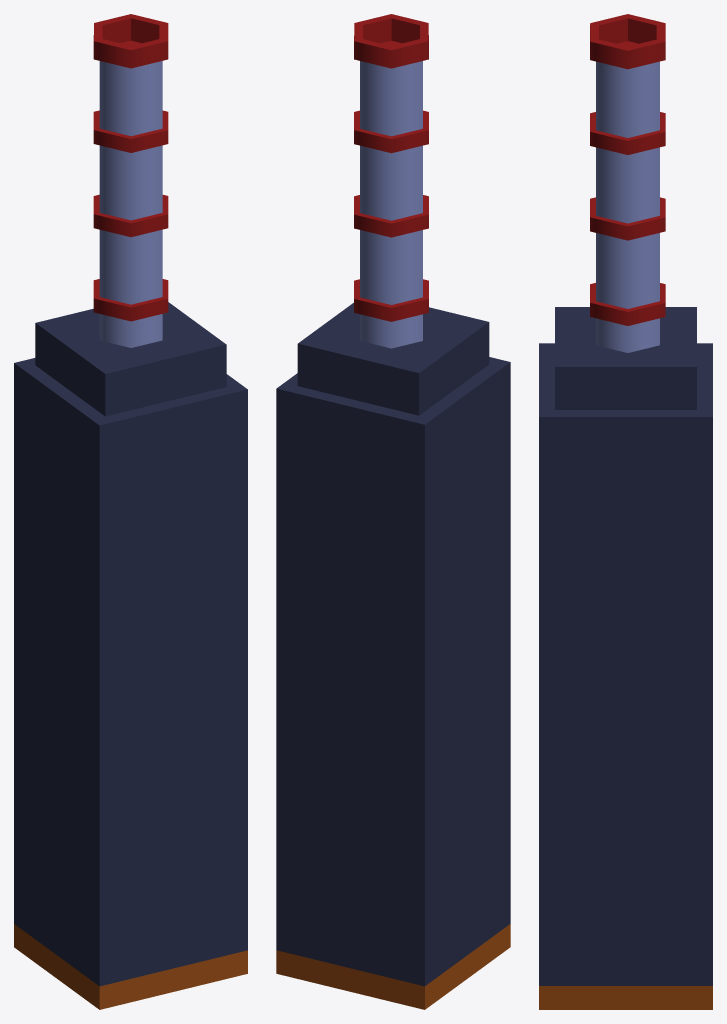
Rendered from Factory_part4-3.FBX.
The picture shows the model from 3 angles, left to right: view 1: azimuth 30°, elevation 25°; view 2: azimuth 150°, elevation 25°; view 3: azimuth 270°, elevation 25°; orthographic projection.
Parts seen in each view (by area): view 1: Factory_part4-3; view 2: Factory_part4-3; view 3: Factory_part4-3.
Part boxes in pixels (box(x1,y1,x2,y2)): Factory_part4-3: box(14, 14, 247, 1009); Factory_part4-3: box(276, 14, 510, 1009); Factory_part4-3: box(539, 14, 712, 1009).
Bounding box in the file's own units: 70 × 419 × 70.
